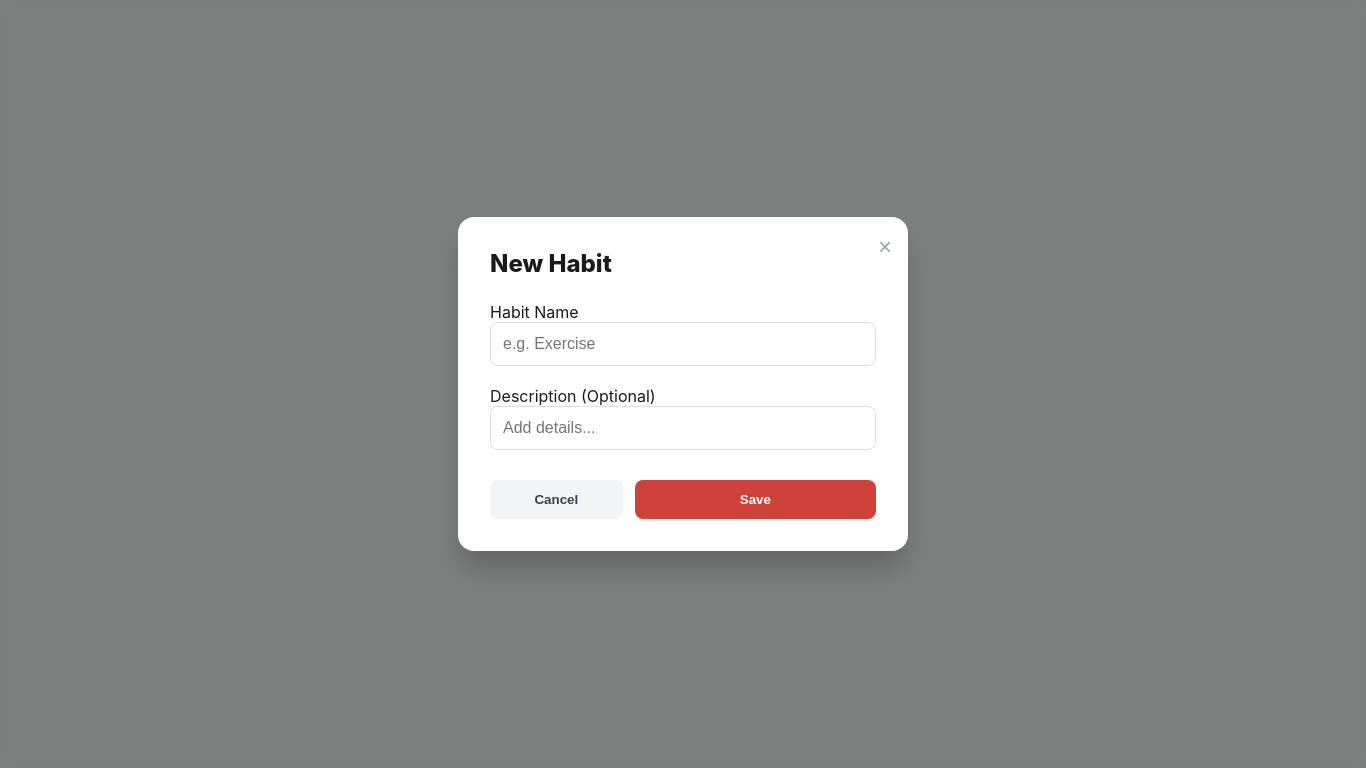
Test: HabitForm › shows a validation error when habit name is empty
Step 1. Click the button with test id "habit-form-submit" → {"x": 755, "y": 500}, box top-left (635, 480), bottom-right (876, 519)
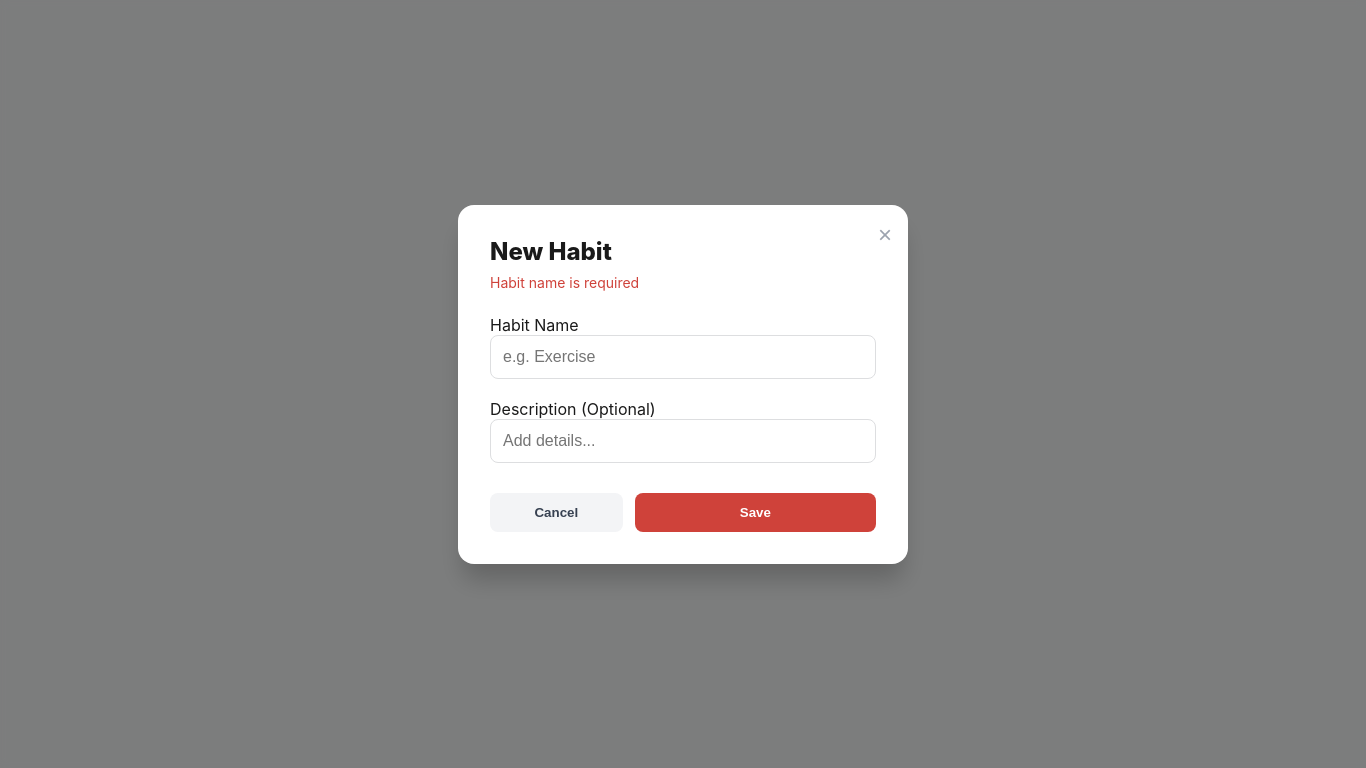
Result: the text with test id "habit-error-message" reads "Habit name is required" at top-left (490, 274), bottom-right (639, 290)
